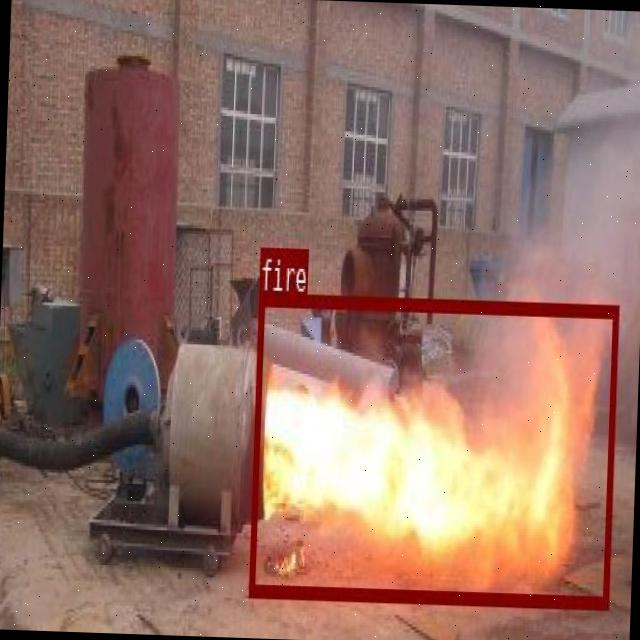fire: (248, 293, 616, 606)
